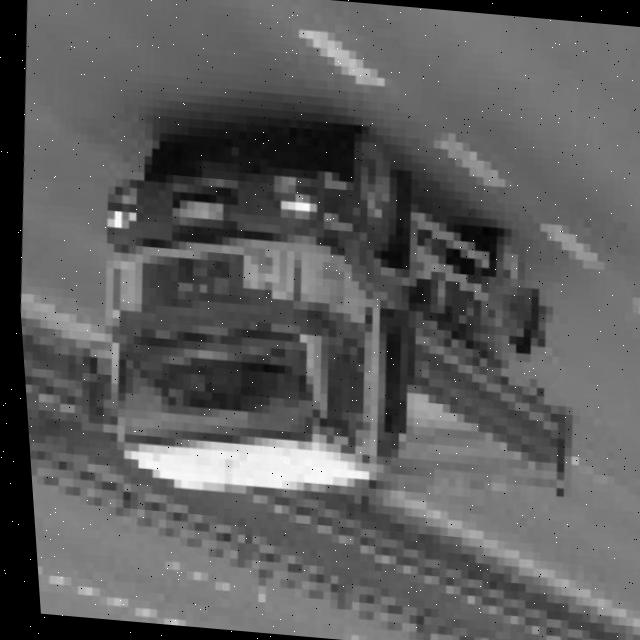truck: (51, 118, 443, 524)
